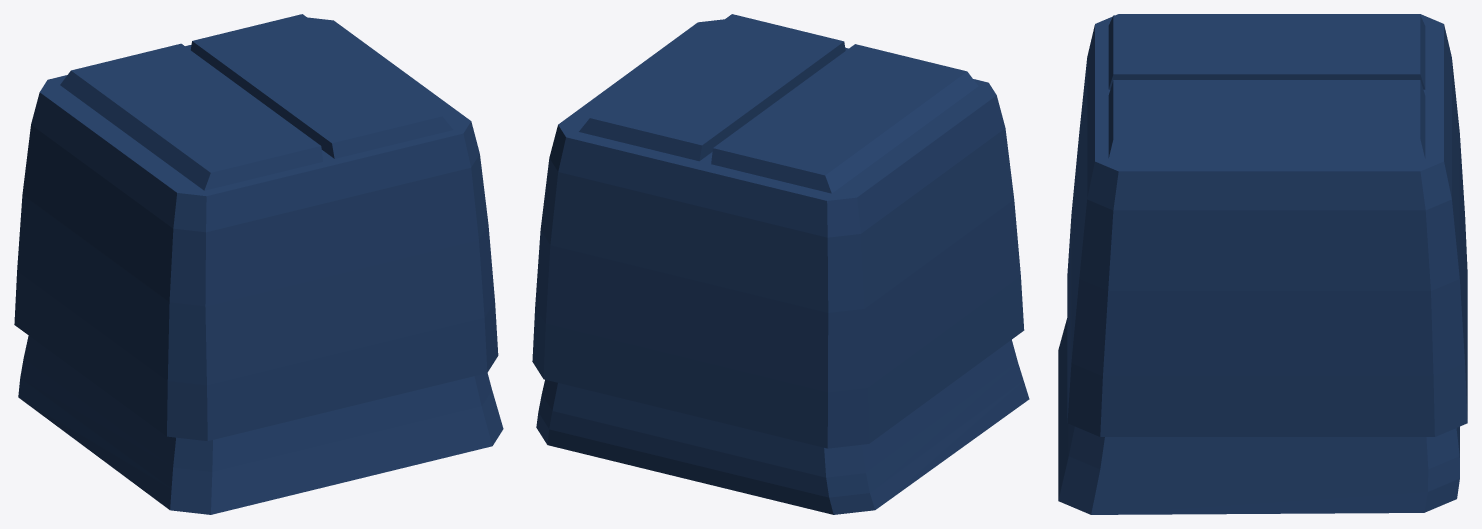
Rendered from hair_boy_high_top_fade_01.glb.
3 views of the same model, side by side, from view 1: azimuth 30°, elevation 25°; view 2: azimuth 150°, elevation 25°; view 3: azimuth 270°, elevation 25° (orthographic). The views are drawn at different scales.
Visible parts, largest first — view 1: HighTop_Block, HighTop_Fade_Step, HighTop_CrownFacet_L, HighTop_CrownFacet_R; view 2: HighTop_Block, HighTop_Fade_Step, HighTop_CrownFacet_L, HighTop_CrownFacet_R; view 3: HighTop_Block, HighTop_Fade_Step, HighTop_CrownFacet_R, HighTop_CrownFacet_L.
Part boxes in pixels (left/top/right/bottom): HighTop_Block: left=14, top=17, right=498, bottom=441; HighTop_Fade_Step: left=18, top=336, right=503, bottom=514; HighTop_CrownFacet_L: left=60, top=43, right=322, bottom=190; HighTop_CrownFacet_R: left=190, top=14, right=452, bottom=158; HighTop_Block: left=532, top=19, right=1024, bottom=448; HighTop_Fade_Step: left=536, top=340, right=1029, bottom=514; HighTop_CrownFacet_L: left=711, top=44, right=978, bottom=193; HighTop_CrownFacet_R: left=579, top=14, right=845, bottom=161; HighTop_Block: left=1067, top=14, right=1467, bottom=436; HighTop_Fade_Step: left=1058, top=318, right=1459, bottom=514; HighTop_CrownFacet_R: left=1108, top=80, right=1425, bottom=159; HighTop_CrownFacet_L: left=1108, top=15, right=1425, bottom=89.
Size of the model in its own units: 0.322 by 0.293 by 0.312.
